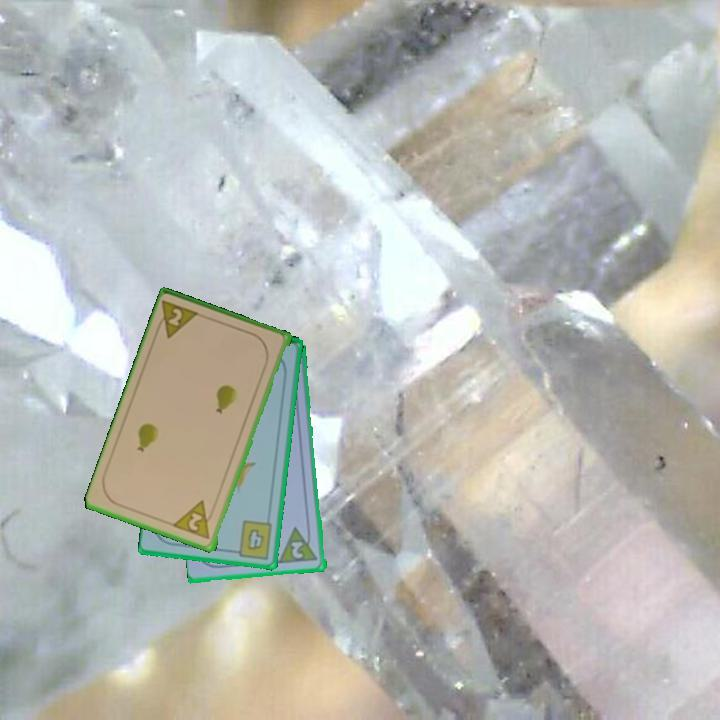2p: (152, 297, 204, 342), (171, 497, 217, 543), (277, 523, 321, 567)
4b: (229, 517, 275, 562)
